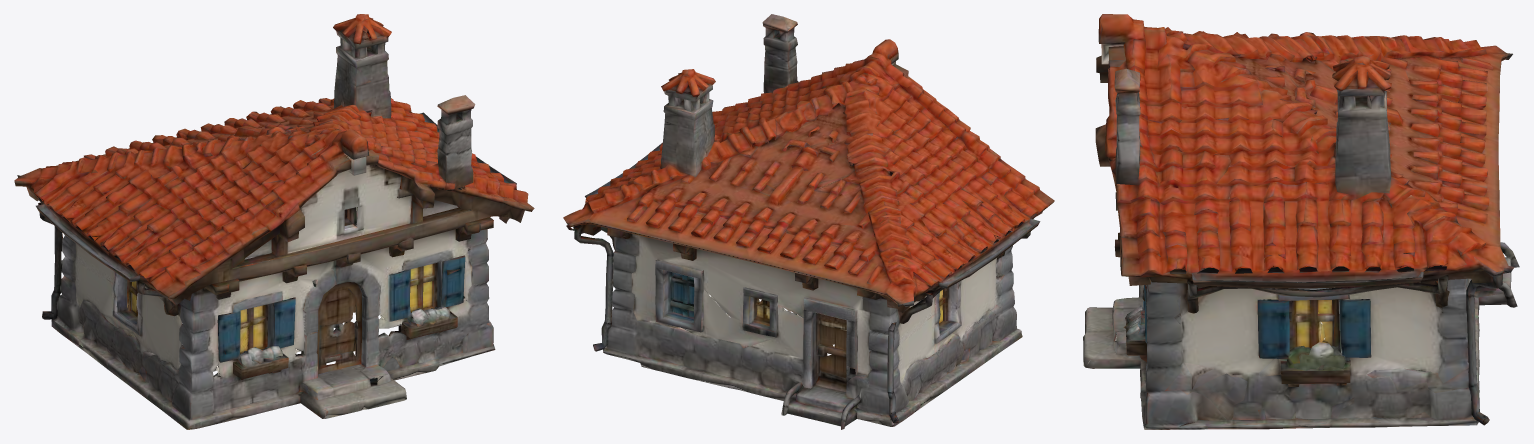
File: candidate.glb
3 views of the same model, side by side, from view 1: azimuth 30°, elevation 25°; view 2: azimuth 150°, elevation 25°; view 3: azimuth 270°, elevation 25° (orthographic). The views are drawn at different scales.
Parts seen in each view (by area): view 1: alpine__tower_1__native_mobile; view 2: alpine__tower_1__native_mobile; view 3: alpine__tower_1__native_mobile.
Boxes of the visible parts, x1,y1,x2,y2 form: alpine__tower_1__native_mobile: (14,14,534,429); alpine__tower_1__native_mobile: (563,14,1054,429); alpine__tower_1__native_mobile: (1083,14,1519,429).
Bounding box in the file's own units: 1 × 0.7031 × 0.789.
Materials: 1 (1 with a texture image).
